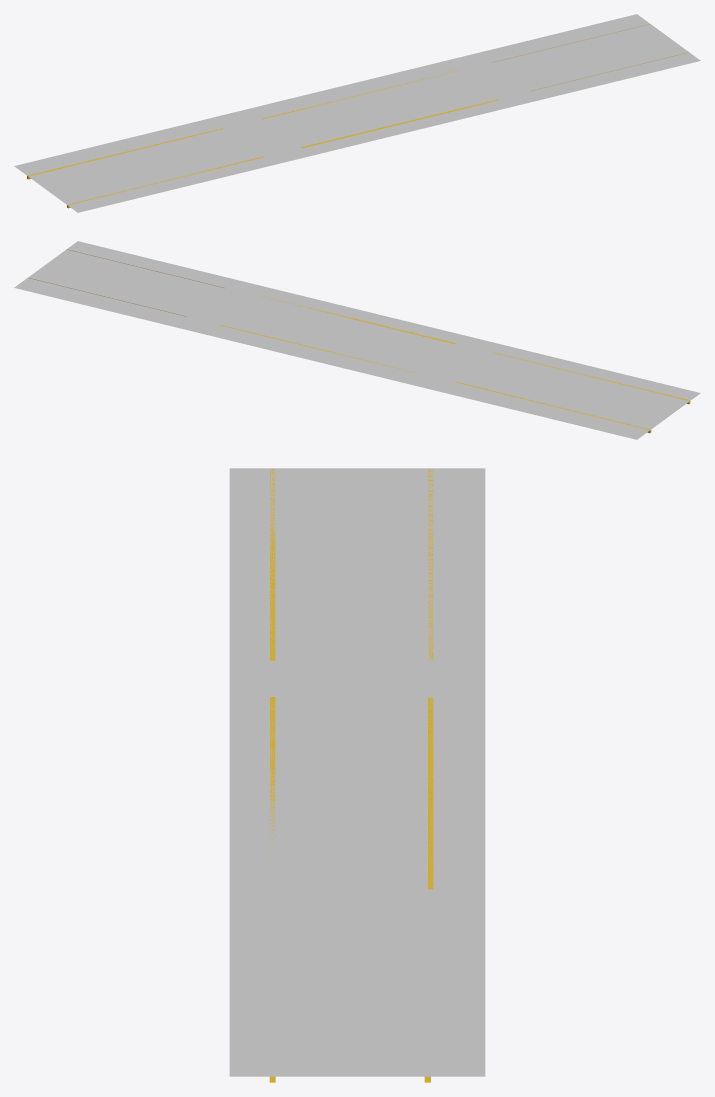
The model's file is road.fbx.
The picture shows the model from 3 angles, top to bottom: view 1: azimuth 30°, elevation 25°; view 2: azimuth 150°, elevation 25°; view 3: azimuth 270°, elevation 25°; orthographic projection. The views are drawn at different scales.
Parts seen in each view (by area): view 1: Cube; view 2: Cube; view 3: Cube.
Part boxes in pixels (box(x1,y1,x2,y2)): Cube: box(14, 14, 700, 212); Cube: box(14, 241, 700, 439); Cube: box(229, 468, 485, 1082).
Size of the model in its own units: 57557 by 530 by 10227.
